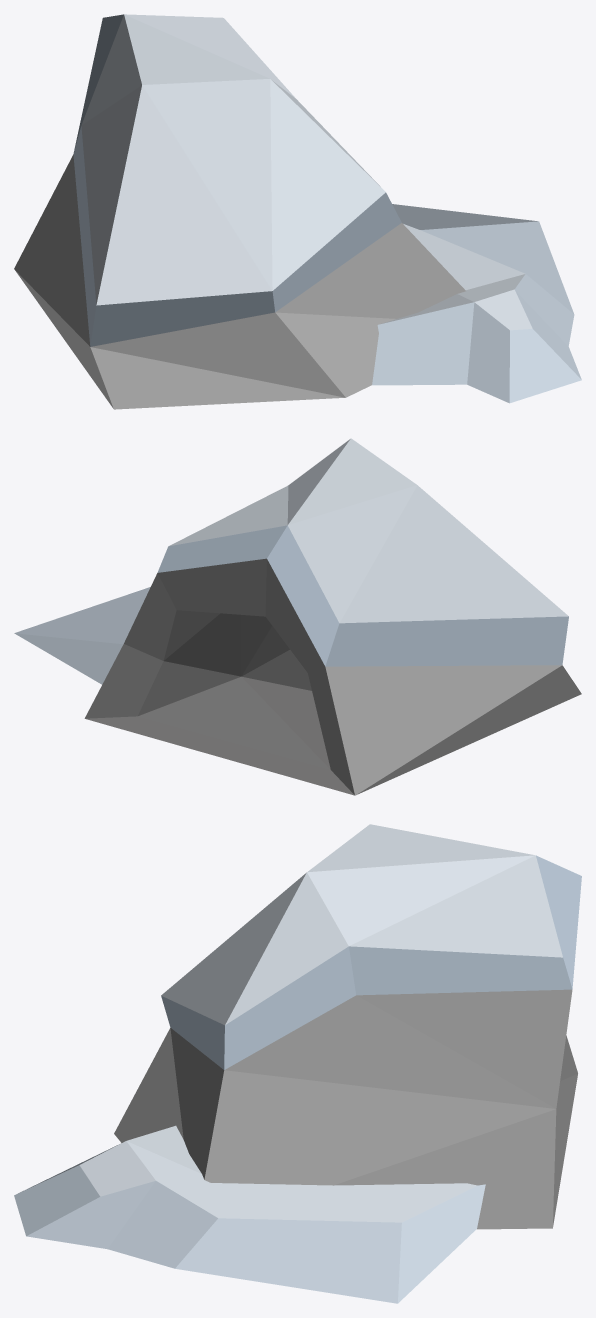
File: CaveWinter.fbx
The picture shows the model from 3 angles, top to bottom: view 1: azimuth 30°, elevation 25°; view 2: azimuth 150°, elevation 25°; view 3: azimuth 270°, elevation 25°; orthographic projection. The views are drawn at different scales.
Visible parts, largest first — view 1: CaveWinter; view 2: CaveWinter; view 3: CaveWinter.
Boxes of the visible parts, box(x1,y1,x2,y2) form: CaveWinter: box(14, 14, 581, 409); CaveWinter: box(14, 438, 581, 795); CaveWinter: box(14, 824, 581, 1303).
Size of the model in its own units: 2.71 by 1.27 by 2.42.
